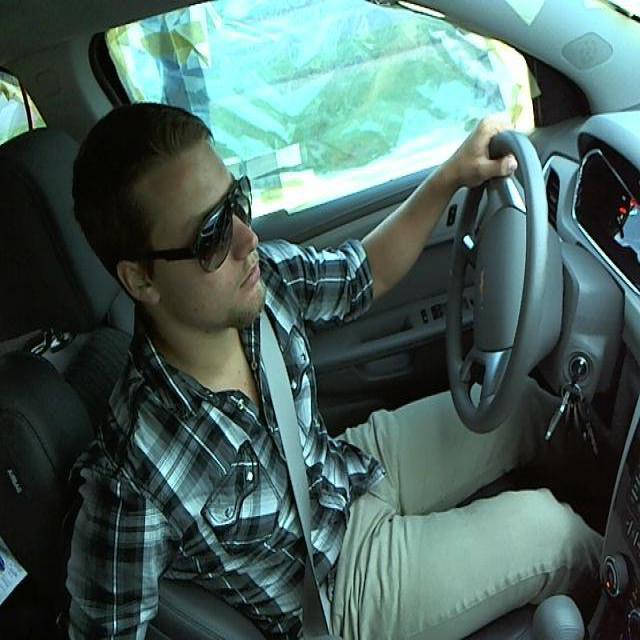seatbelt: (250, 333, 356, 635)
